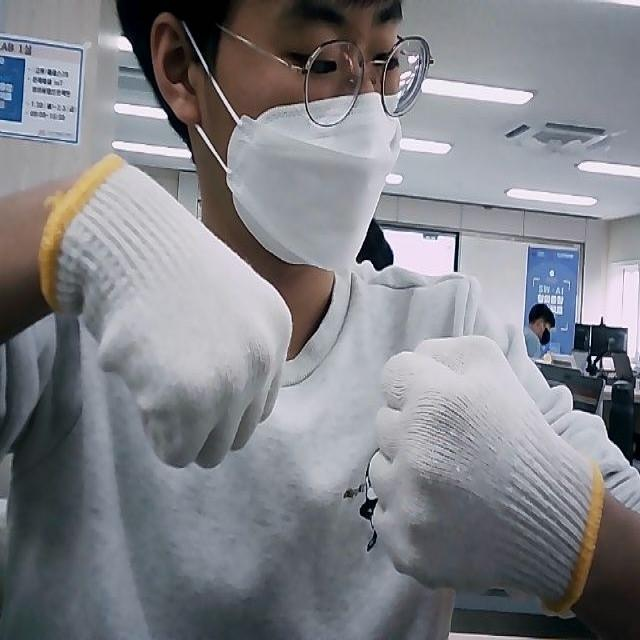Guantes: (42, 154, 293, 470), (367, 333, 607, 607)
